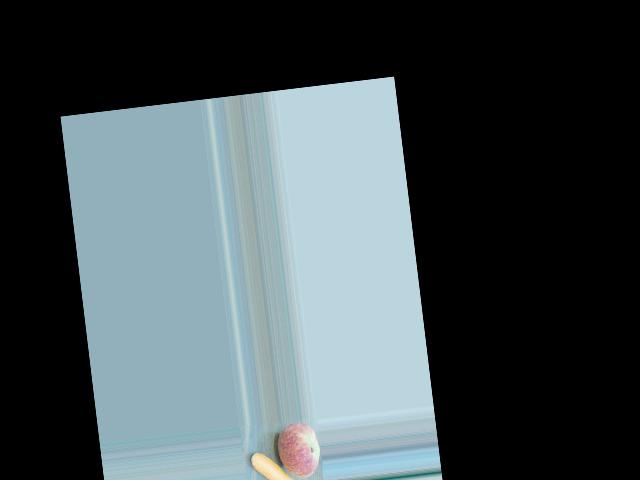carrot: (247, 441, 303, 480)
